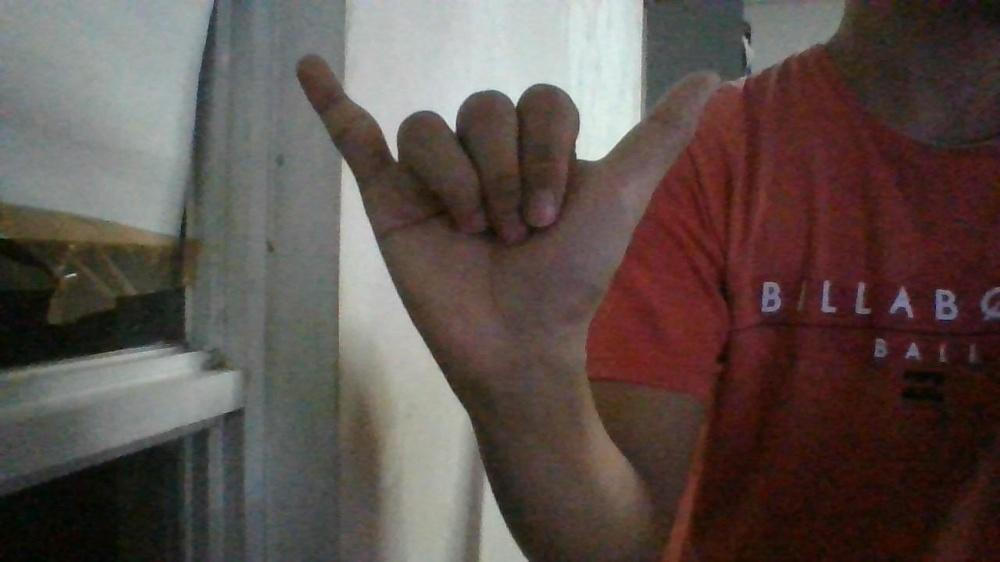y: (293, 51, 720, 379)
